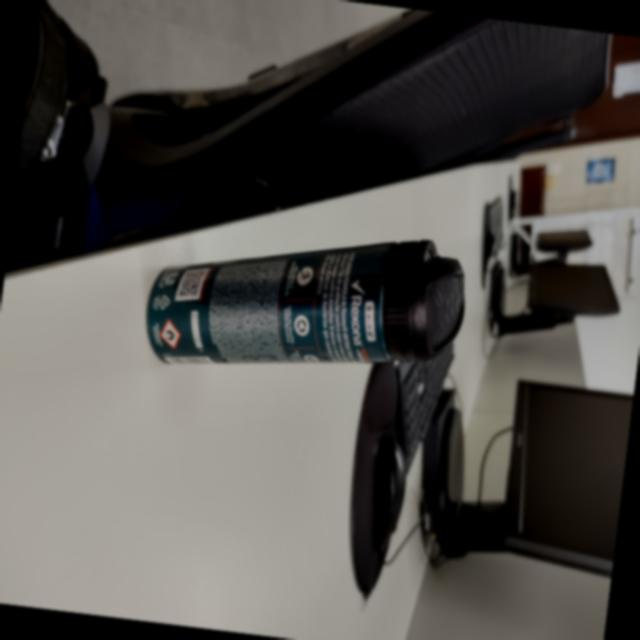Desodorante Azul: (145, 240, 463, 363)
